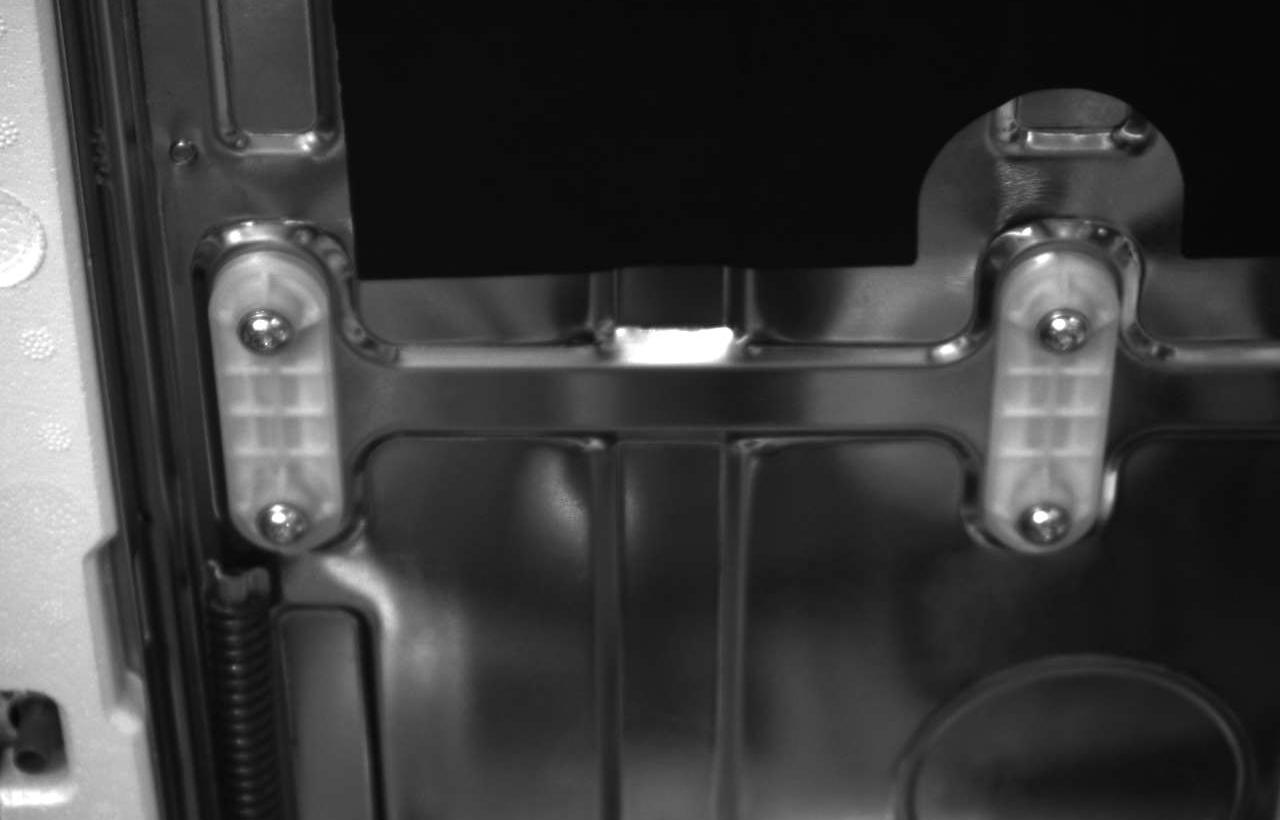vida-ok: (222, 296, 309, 373), (1014, 299, 1102, 372), (230, 496, 311, 560), (1008, 496, 1084, 555)
